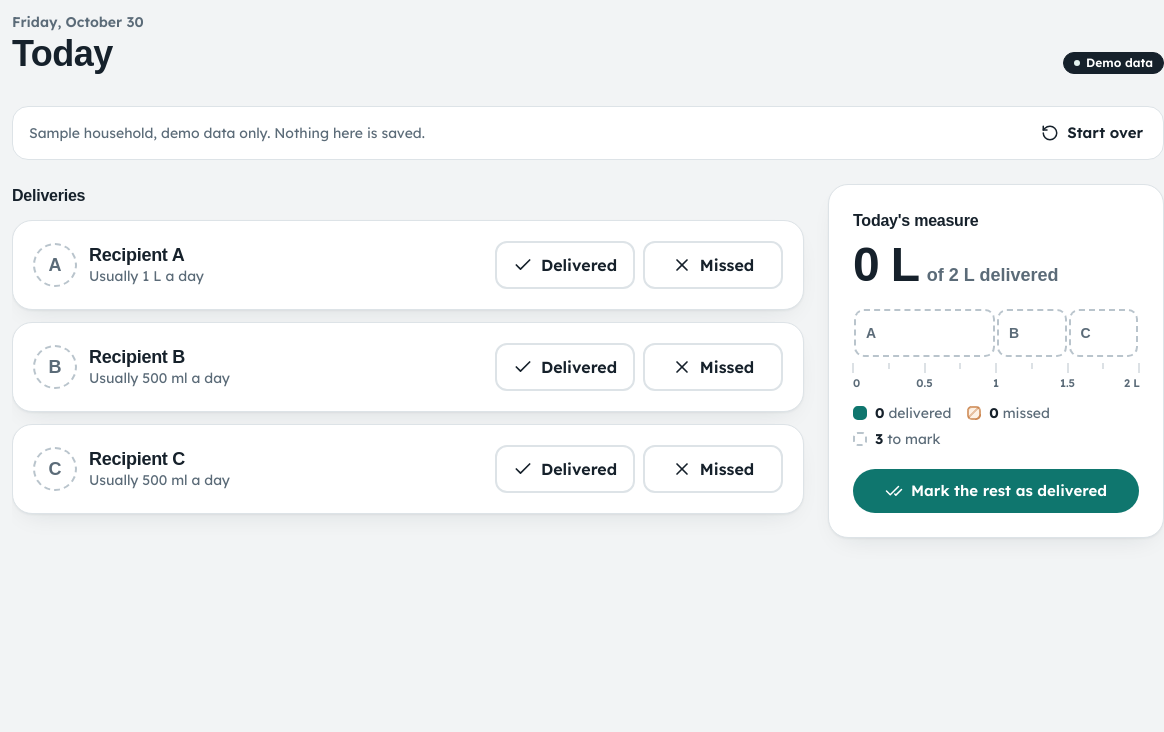
Test: TodayScreen › adjusts the quantity received
The image size is (1164, 732).
Click the button with aria-label "Delivered for Recipient A".
click(565, 265)  # box [495,241,635,289]
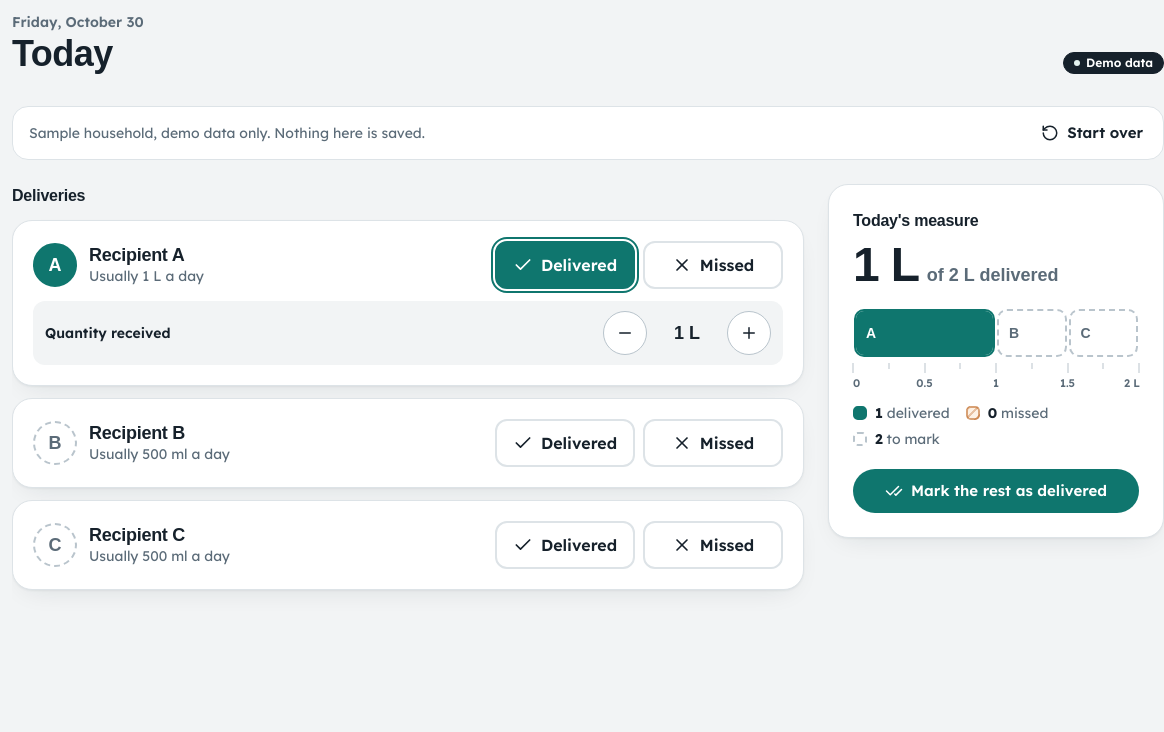
Click the button named "250 ml more".
click(749, 333)  # box [727,311,771,355]
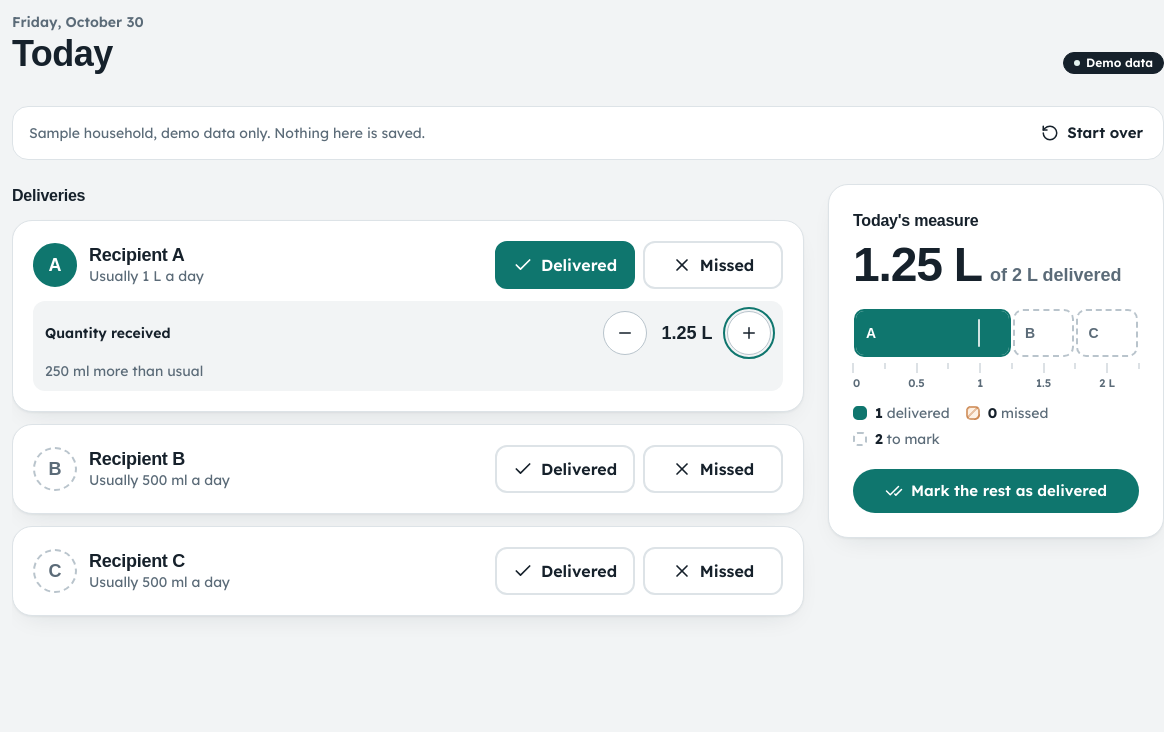
Expected: the text "1.25 L" in the row of "Quantity received" is shown, [662,323,712,343]
Expected: the text "250 ml more than usual" is shown, [45,362,203,380]
